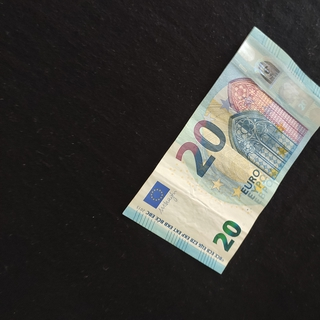20EUROFront: (121, 25, 320, 275)
